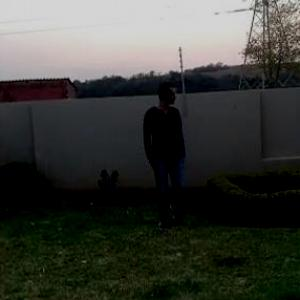follow: (146, 76, 195, 246)
